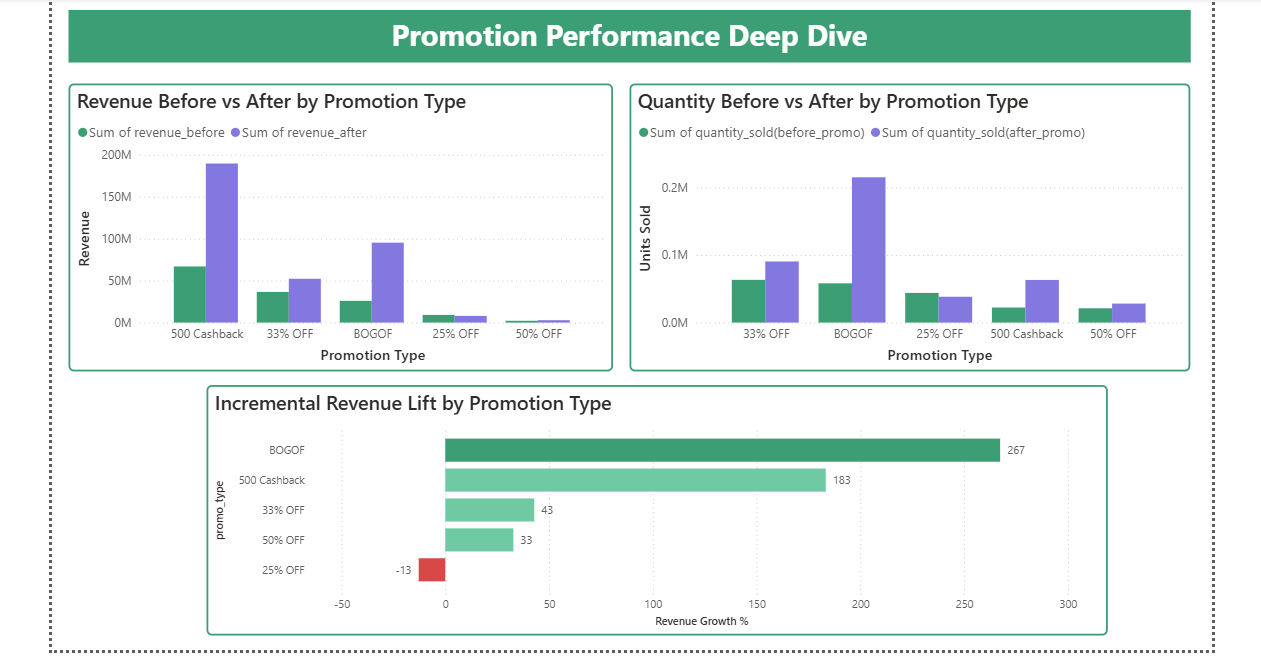

This screenshot's page, from the dashboard's own definition file:
{"tool":"powerbi","page":{"name":"Promotion Analysis","canvas":[1280,720],"ordinal":1},"visuals":[{"type":"textbox","box":[18.2,13.3,1239,58],"z":0},{"type":"clusteredColumnChart","title":"Revenue Before vs After by Promotion Type","fields":{"Category":["atliq_promotion_analysis_final.promo_type"],"Y":["Sum(atliq_promotion_analysis_final.revenue_before)","Sum(atliq_promotion_analysis_final.revenue_after)"]},"box":[18.2,94.4,601.3,318],"z":1000},{"type":"clusteredColumnChart","title":"Quantity Before vs After by Promotion Type","fields":{"Category":["atliq_promotion_analysis_final.promo_type"],"Y":["Sum(atliq_promotion_analysis_final.quantity_sold(before_promo))","Sum(atliq_promotion_analysis_final.quantity_sold(after_promo))"]},"box":[637.7,94.4,619.5,318],"z":2000},{"type":"clusteredBarChart","title":"Incremental Revenue Lift by Promotion Type","fields":{"Category":["atliq_promotion_analysis_final.promo_type"],"Y":["atliq_promotion_analysis_final.Revenue Growth %"]},"box":[170.6,427.4,995.5,276.6],"z":3000}]}

Visuals, with their boxes in screenshot pixels (x1, y1, x2, y2):
textbox: region(47, 6, 1208, 60)
"Revenue Before vs After by Promotion Type" clusteredColumnChart: region(47, 82, 610, 380)
"Quantity Before vs After by Promotion Type" clusteredColumnChart: region(627, 82, 1208, 380)
"Incremental Revenue Lift by Promotion Type" clusteredBarChart: region(189, 394, 1123, 653)
